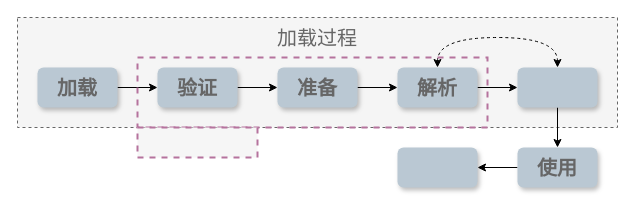
The diagram is 635 pixels wide and 212 high, and some of its shapes have lost their labels. The shapes that lost their labels are listed below. From the top down, each one's centre as x and y in pixels, then its label:
pixel 558 88: 初始化
pixel 197 142: 连接Linking
pixel 438 168: 卸载
